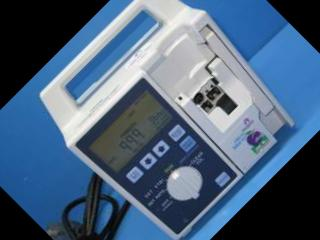plumxl1: (42, 1, 293, 232)
